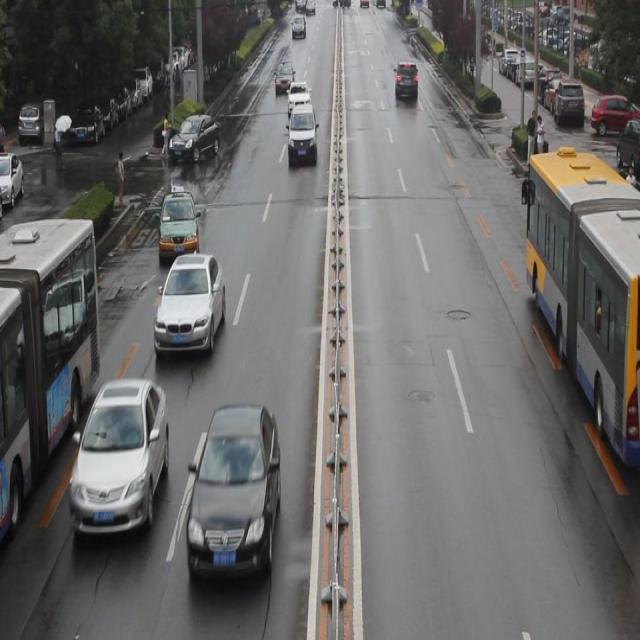car: (186, 403, 279, 581), (72, 381, 167, 543), (155, 255, 225, 358), (158, 187, 198, 260), (168, 114, 221, 160), (288, 79, 310, 117)
truck: (288, 107, 316, 166)
van: (518, 152, 640, 476), (1, 217, 100, 527)
